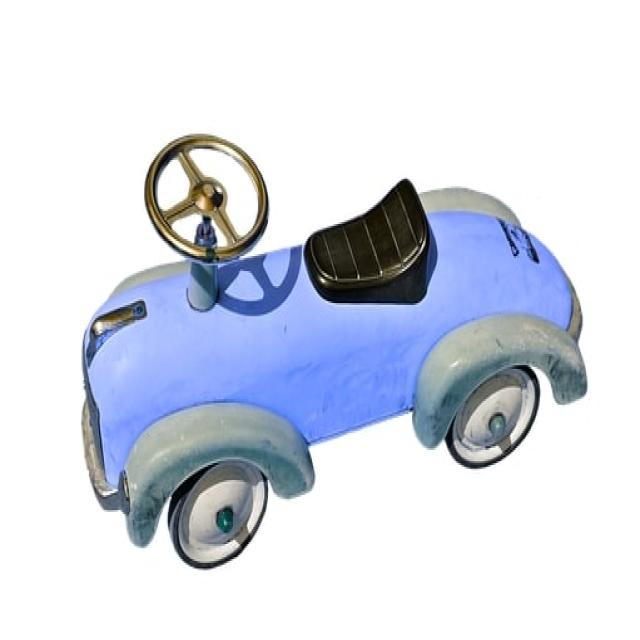Car: (80, 132, 588, 568)
